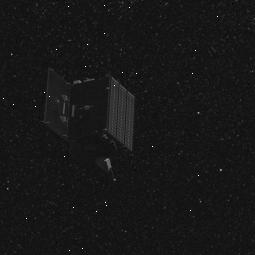proba_2: (37, 62, 148, 186)
